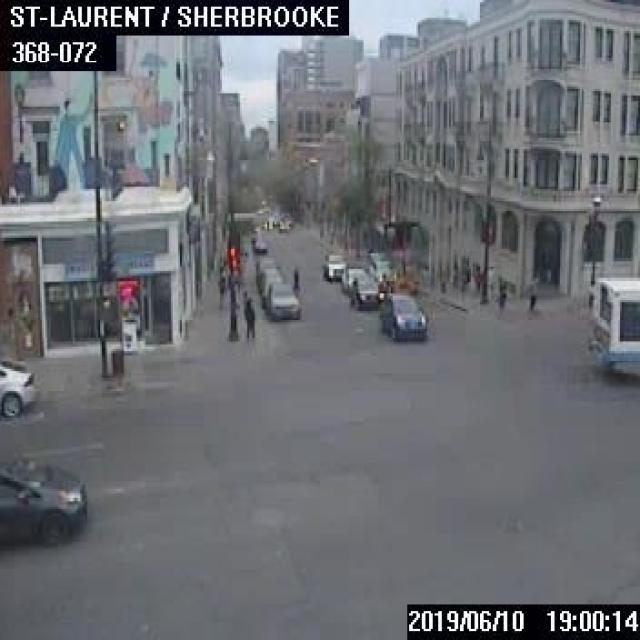bus: (582, 271, 638, 372)
pedestrian: (242, 298, 253, 336), (216, 265, 225, 304), (472, 264, 482, 291), (496, 282, 505, 306), (292, 265, 298, 289), (528, 291, 535, 309)
vehicle: (0, 451, 87, 542), (378, 292, 428, 340), (0, 360, 36, 415), (264, 282, 298, 318), (347, 274, 382, 308), (259, 268, 285, 305), (321, 253, 347, 280), (338, 265, 364, 292)
